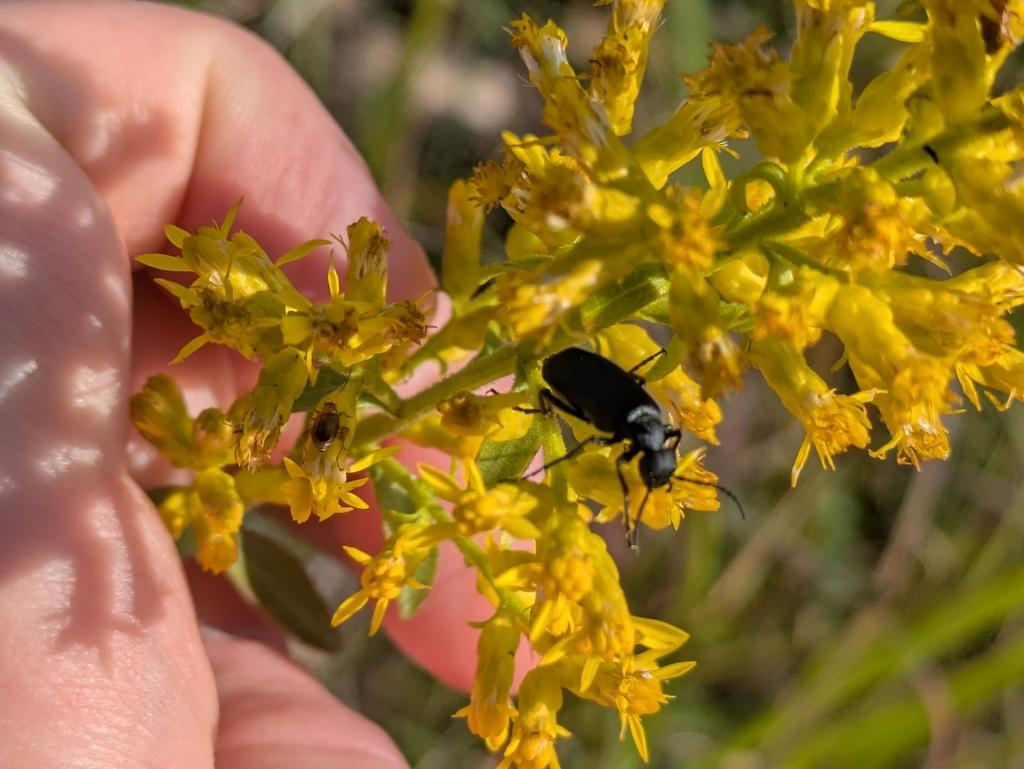blister_beetle: (487, 309, 779, 568)
